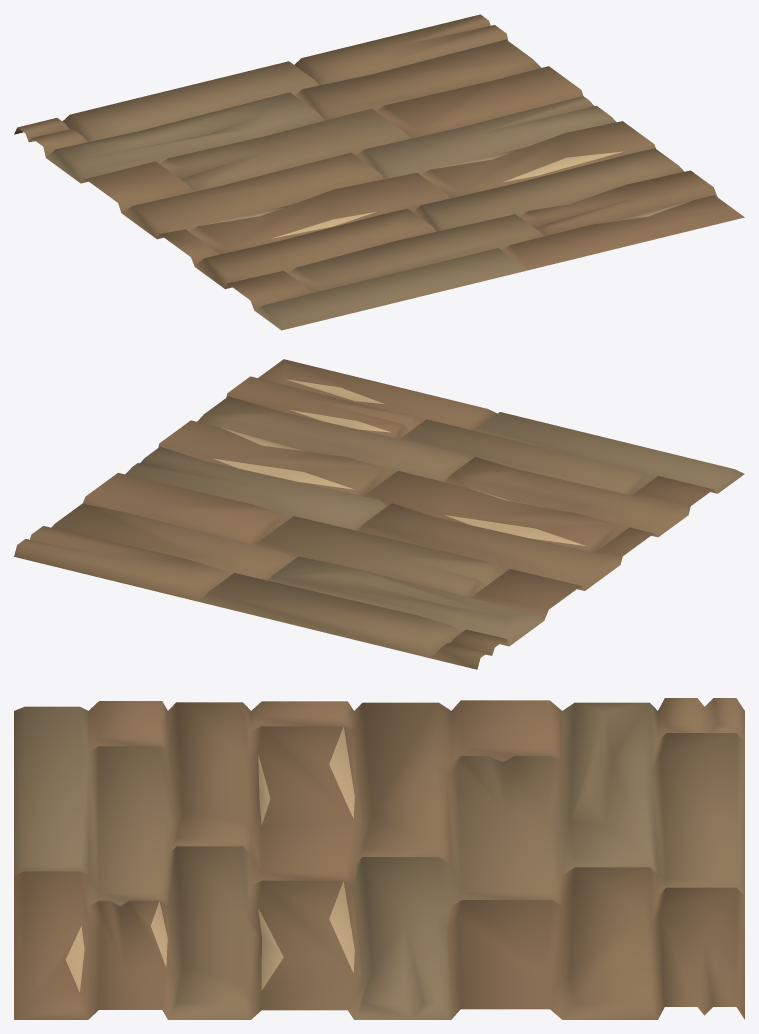
Rendered from rpgpp_ag_floor_01b_3x3.fbx.
The picture shows the model from 3 angles, top to bottom: view 1: azimuth 30°, elevation 25°; view 2: azimuth 150°, elevation 25°; view 3: azimuth 270°, elevation 25°; orthographic projection. The views are drawn at different scales.
Parts seen in each view (by area): view 1: rpgpp_ag_floor_01b_3x3; view 2: rpgpp_ag_floor_01b_3x3; view 3: rpgpp_ag_floor_01b_3x3.
Part boxes in pixels (box(x1,y1,x2,y2)): rpgpp_ag_floor_01b_3x3: box(14, 14, 744, 330); rpgpp_ag_floor_01b_3x3: box(14, 359, 744, 669); rpgpp_ag_floor_01b_3x3: box(14, 698, 744, 1019).
Size of the model in its own units: 3 by 0.059 by 3.
